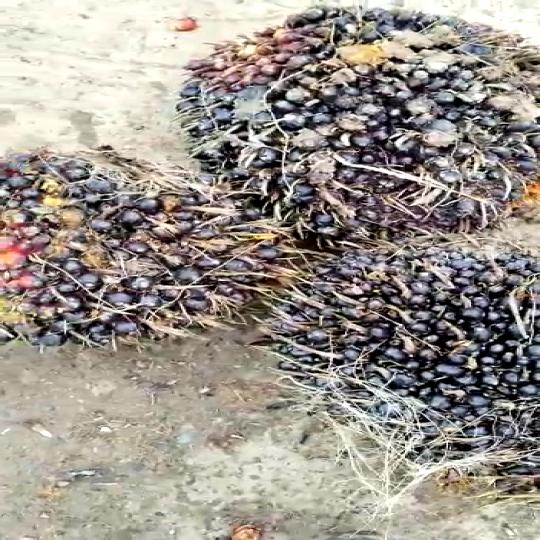mentah: (165, 6, 540, 248), (245, 233, 540, 526), (0, 125, 281, 346)
